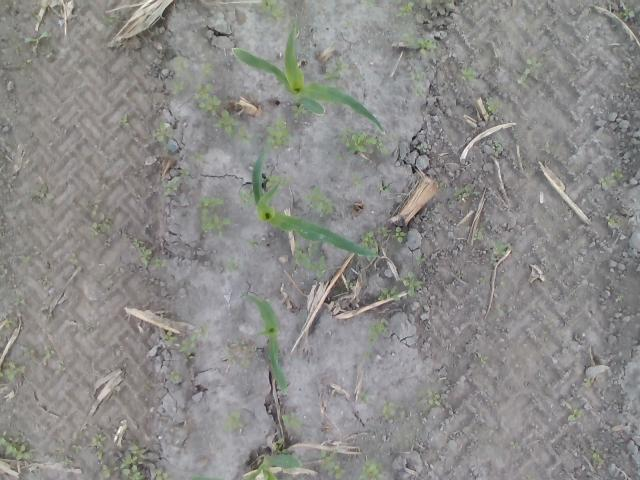Maize: (231, 15, 386, 133), (251, 144, 382, 258), (241, 290, 288, 394), (187, 454, 303, 480)
Weeds: (196, 196, 232, 240), (338, 126, 388, 155), (294, 240, 328, 280), (113, 444, 147, 480), (0, 430, 32, 461), (305, 186, 335, 218), (316, 447, 346, 479), (264, 118, 293, 150), (194, 83, 222, 115), (323, 54, 350, 84), (404, 33, 437, 55), (88, 212, 115, 238), (358, 456, 387, 480), (357, 230, 378, 262), (24, 28, 51, 52), (213, 110, 240, 134), (257, 0, 286, 21), (401, 270, 424, 296), (264, 172, 290, 194), (0, 361, 25, 381), (369, 318, 388, 344), (222, 410, 244, 431), (600, 167, 623, 187), (152, 122, 172, 144), (236, 188, 258, 208), (280, 410, 302, 430), (489, 240, 514, 257), (31, 185, 56, 202), (564, 402, 584, 422), (524, 55, 544, 75), (223, 256, 244, 274), (377, 286, 400, 301), (233, 125, 252, 143), (588, 446, 606, 464), (162, 178, 180, 196), (396, 1, 415, 18), (460, 68, 480, 84), (380, 398, 394, 420), (484, 99, 502, 116), (180, 333, 197, 351), (426, 387, 442, 406), (173, 56, 190, 72), (410, 69, 426, 86), (604, 214, 621, 230), (90, 432, 106, 449), (292, 102, 309, 118), (392, 226, 408, 243), (272, 438, 288, 455), (140, 245, 152, 266), (153, 467, 172, 480), (615, 8, 635, 20), (198, 62, 212, 78), (356, 390, 372, 404), (163, 329, 177, 345), (454, 184, 472, 196), (492, 139, 504, 157), (196, 324, 211, 338), (224, 346, 236, 363), (43, 344, 55, 360), (188, 151, 204, 163), (378, 180, 391, 194), (234, 338, 248, 351), (540, 144, 558, 154), (351, 170, 362, 186), (21, 346, 35, 358), (172, 80, 184, 94), (152, 258, 168, 268), (474, 228, 486, 241), (86, 203, 99, 215), (517, 72, 528, 86), (182, 352, 196, 363), (246, 238, 260, 249), (101, 14, 117, 23), (477, 352, 489, 364), (387, 134, 400, 145), (102, 464, 112, 478), (178, 168, 192, 178), (377, 226, 391, 236), (130, 237, 142, 248), (239, 357, 250, 368), (415, 143, 427, 153), (162, 146, 172, 158), (170, 369, 180, 381), (94, 448, 104, 460), (70, 252, 80, 264), (73, 442, 83, 454), (341, 20, 355, 28), (59, 458, 73, 466), (416, 255, 426, 266), (14, 295, 23, 307), (118, 118, 130, 127), (476, 276, 489, 284), (344, 278, 354, 288), (360, 0, 373, 7), (362, 350, 372, 359), (584, 377, 592, 388), (496, 304, 504, 315), (0, 112, 11, 120), (85, 322, 96, 330), (21, 255, 32, 263), (414, 88, 424, 96), (510, 441, 520, 449), (614, 294, 624, 302), (336, 151, 344, 161), (522, 23, 531, 31), (454, 271, 464, 278), (56, 364, 62, 373), (14, 46, 20, 54), (438, 182, 446, 188), (130, 172, 138, 178), (424, 0, 434, 4), (357, 73, 362, 78)
